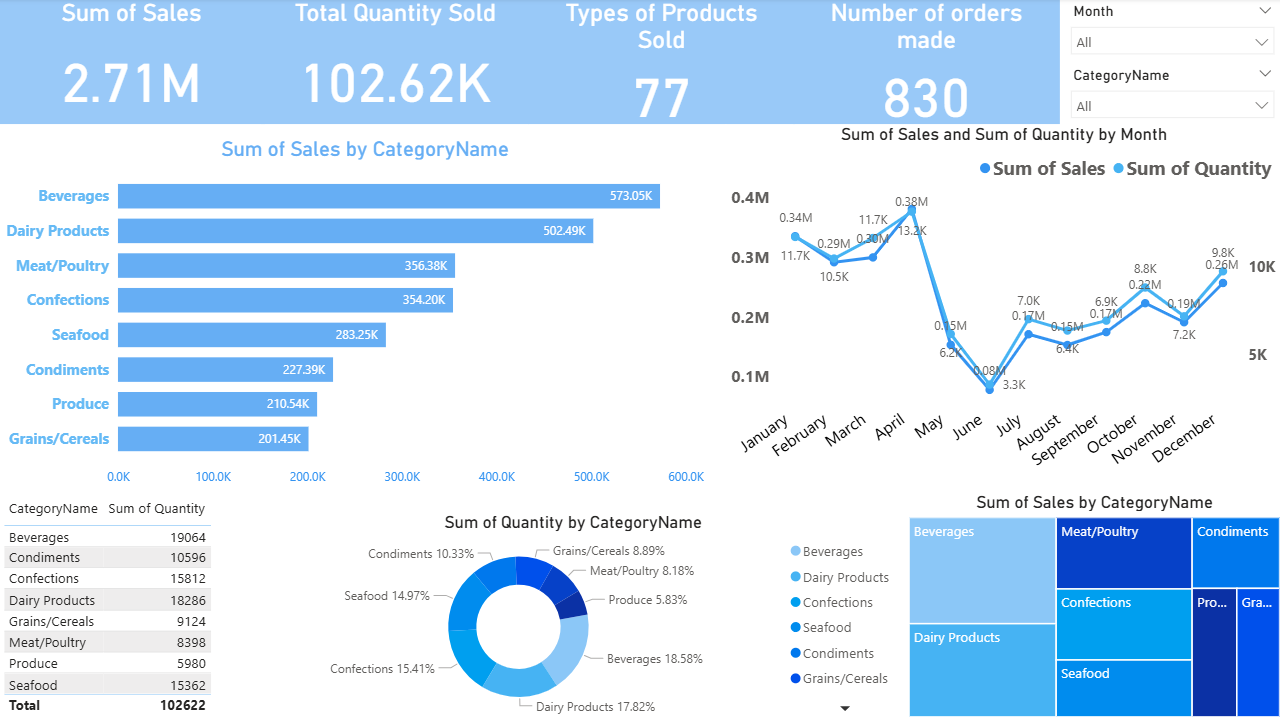

The dashboard page shown, as its layout file describes it:
{"tool":"powerbi","page":{"name":"Page 1","canvas":[1280,720],"ordinal":0},"visuals":[{"type":"card","title":"Sum of Sales","fields":{"Values":["Sum(OrdersDetails.Sales)"]},"box":[0,0,265.7,125.7],"z":0},{"type":"tableEx","fields":{"Values":["Categories.CategoryName","Sum(OrdersDetails.Quantity)"]},"box":[0,491.3,244.3,229.2],"z":1000},{"type":"card","title":"Total Quantity Sold","fields":{"Values":["Sum(OrdersDetails.Quantity)"]},"box":[262.9,0,265.7,125.7],"z":2000},{"type":"card","title":"Types of Products Sold","fields":{"Values":["Count(Product.ProductName)"]},"box":[527.1,0,265.7,125.7],"z":3000},{"type":"card","title":"Number of orders made","fields":{"Values":["Count(Orders.OrderID)"]},"box":[791.4,0,265.7,125.7],"z":4000},{"type":"donutChart","fields":{"Category":["Categories.CategoryName"],"Y":["Sum(OrdersDetails.Quantity)"]},"box":[244.3,491.4,657.1,228.6],"z":5000},{"type":"lineChart","fields":{"Category":["Orders.OrderDate.Variation.Date Hierarchy.Month"],"Y":["Sum(OrdersDetails.Sales)"],"Y2":["Sum(OrdersDetails.Quantity)"]},"box":[724.5,126.2,554.4,365],"z":6000},{"type":"slicer","fields":{"Values":["Orders.OrderDate.Variation.Date Hierarchy.Month"]},"box":[1057.1,0,222.9,62.9],"z":7000},{"type":"slicer","fields":{"Values":["Categories.CategoryName"]},"box":[1057.1,62.9,222.9,62.9],"z":8000},{"type":"treemap","fields":{"Group":["Categories.CategoryName"],"Values":["Sum(OrdersDetails.Sales)"]},"box":[901.5,491.3,378.7,229.2],"z":9000},{"type":"barChart","fields":{"Y":["Sum(OrdersDetails.Sales)"],"Category":["Categories.CategoryName"]},"box":[0,126.2,724.5,365],"z":10000}]}

Visuals, with their boxes in screenshot pixels (x1, y1, x2, y2), scaled from the page's 1280x720 canvas onto the 1280x718 screenshot:
"Sum of Sales" card: crop(0, 0, 266, 125)
tableEx - Categories.CategoryName x Sum(OrdersDetails.Quantity): crop(0, 490, 244, 717)
"Total Quantity Sold" card: crop(263, 0, 529, 125)
"Types of Products Sold" card: crop(527, 0, 793, 125)
"Number of orders made" card: crop(791, 0, 1057, 125)
donutChart - Categories.CategoryName x Sum(OrdersDetails.Quantity): crop(244, 490, 901, 717)
lineChart - Orders.OrderDate.Variation.Date Hierarchy.Month x Sum(OrdersDetails.Sales): crop(724, 126, 1279, 490)
slicer - Orders.OrderDate.Variation.Date Hierarchy.Month: crop(1057, 0, 1279, 63)
slicer - Categories.CategoryName: crop(1057, 63, 1279, 125)
treemap - Categories.CategoryName x Sum(OrdersDetails.Sales): crop(902, 490, 1279, 717)
barChart - Sum(OrdersDetails.Sales) x Categories.CategoryName: crop(0, 126, 724, 490)
